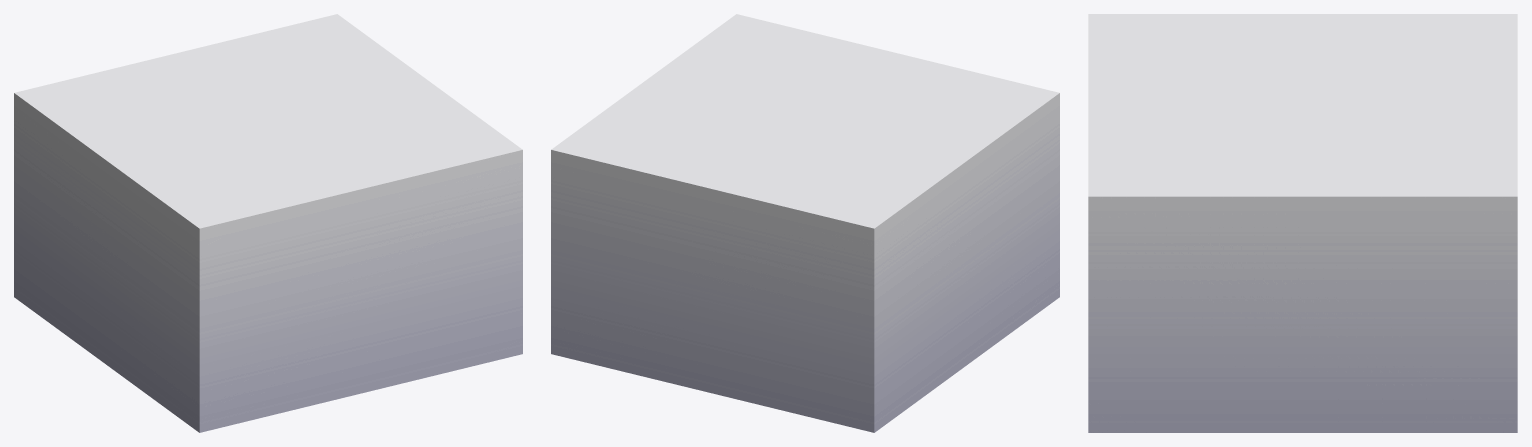
Rendered from brick-kit--none-lq-brick-2x2.glb.
The picture shows the model from 3 angles, left to right: view 1: azimuth 30°, elevation 25°; view 2: azimuth 150°, elevation 25°; view 3: azimuth 270°, elevation 25°; orthographic projection. The views are drawn at different scales.
Visible parts, largest first — view 1: none-lq-brick-2x2; view 2: none-lq-brick-2x2; view 3: none-lq-brick-2x2.
Boxes of the visible parts, x1,y1,x2,y2 form: none-lq-brick-2x2: [14, 14, 522, 432]; none-lq-brick-2x2: [551, 14, 1059, 432]; none-lq-brick-2x2: [1088, 14, 1517, 432].
Bounding box in the file's own units: 0.159 × 0.096 × 0.158.
Materials: 1 (1 with a texture image).
